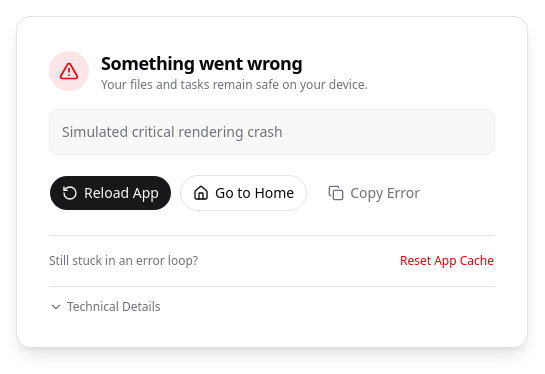
Test case: ErrorBoundary and Error Recovery › allows copying error details to clipboard
The image size is (545, 374).
What coordinates should you click on to do the following:
click the button "Copy Error"
I would click on:
 (374, 193)
Its box is left=315, top=175, right=433, bottom=211.
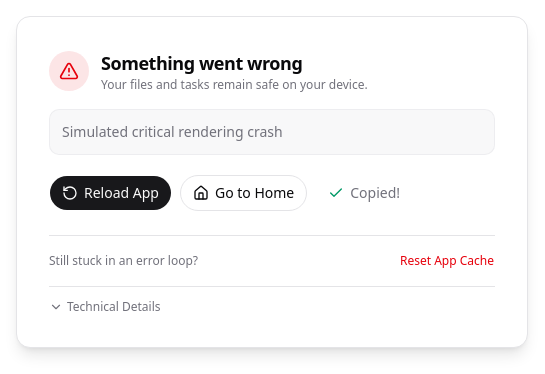
Now the button "Copied!" is shown, box left=315, top=175, right=413, bottom=211
